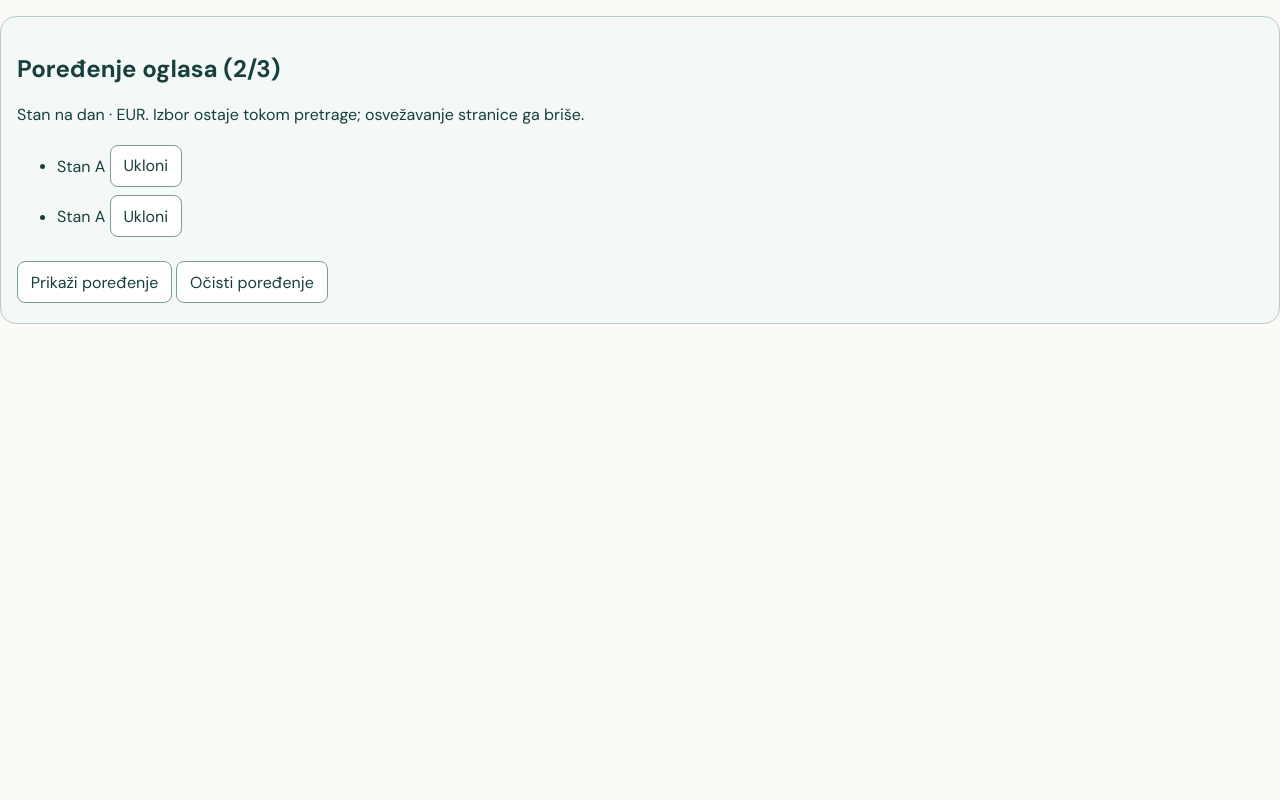
labels nightly prices as base rates even when selected from dated results
This screenshot has width=1280, height=800.
Click the button "Prikaži poređenje".
click(94, 282)  # box [17,261,172,303]
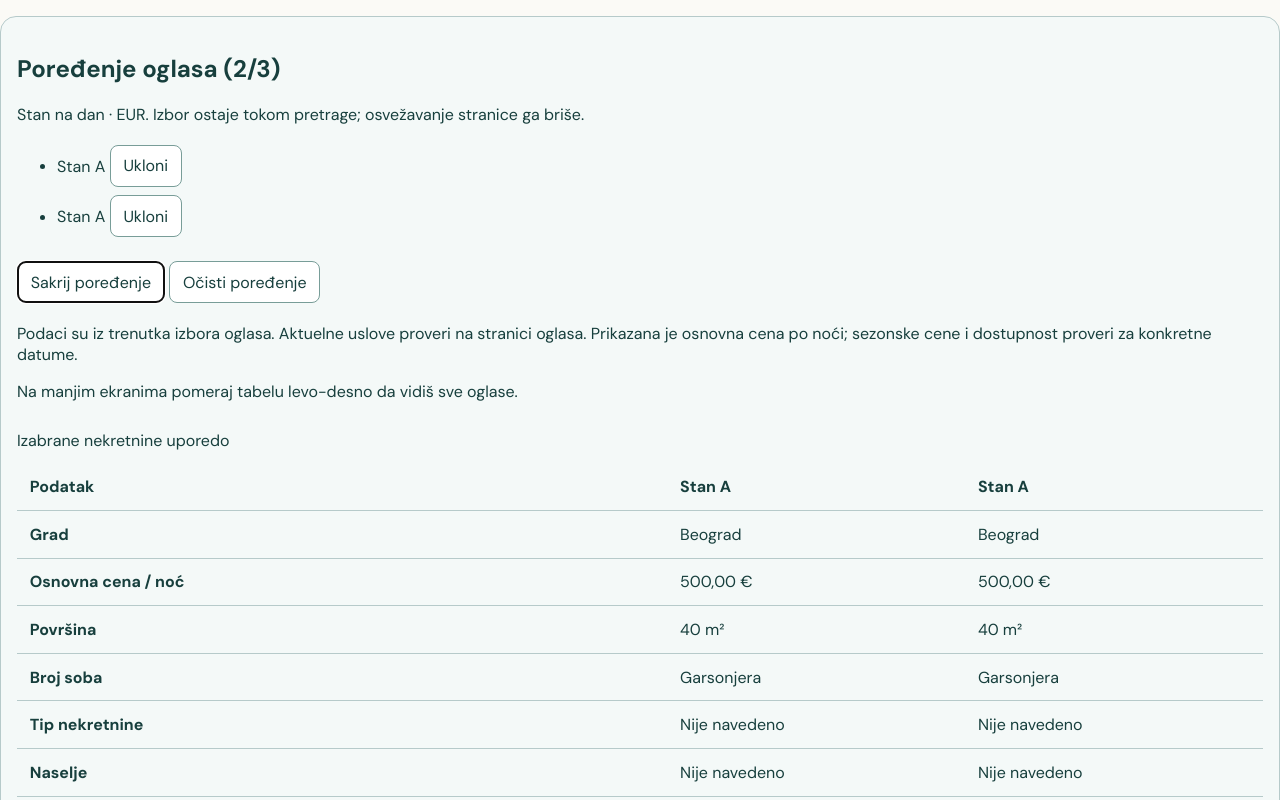
Check: the column heading "Osnovna cena / noć" is shown, box [17,558,667,606]
Check: the text "sezonske cene i dostupnost" is shown, box [17,323,1212,365]
